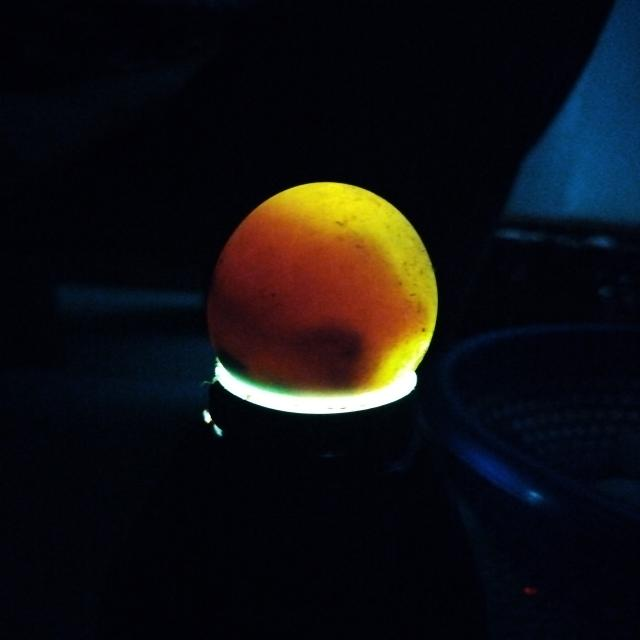Area Infectada: (208, 276, 361, 392)
